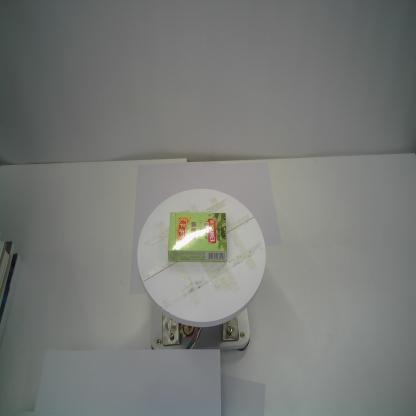Candy: (167, 211, 229, 263)
